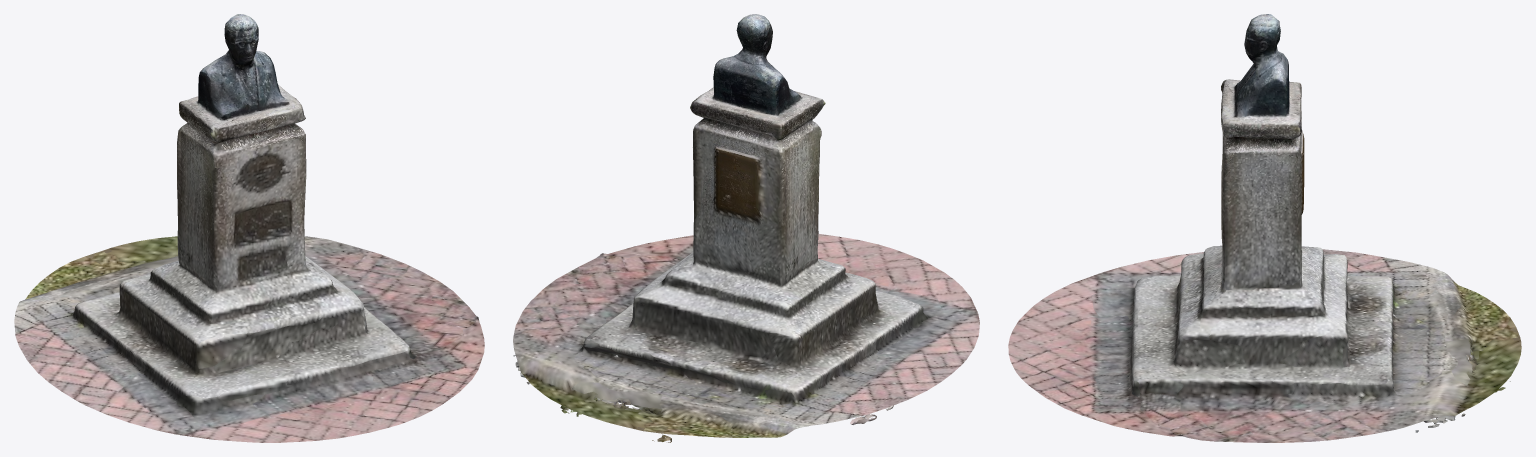
Rendered from paulet.glb.
3 renders of one model, left to right at view 1: azimuth 30°, elevation 25°; view 2: azimuth 150°, elevation 25°; view 3: azimuth 270°, elevation 25°, orthographic. The views are drawn at different scales.
Size of the model in its own units: 2.74 by 2.2 by 3.04.
Materials: 1 (1 with a texture image).
